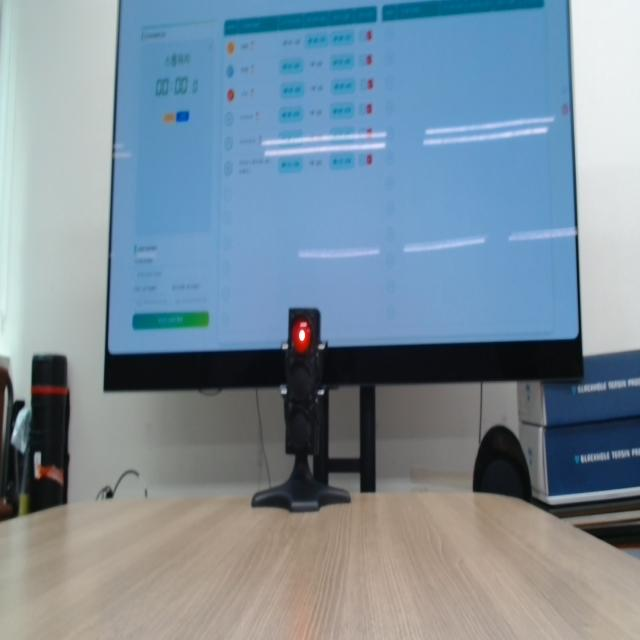red_light: (292, 319, 311, 354)
